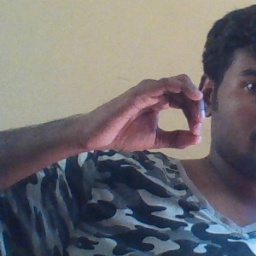O: (83, 67, 208, 157)
